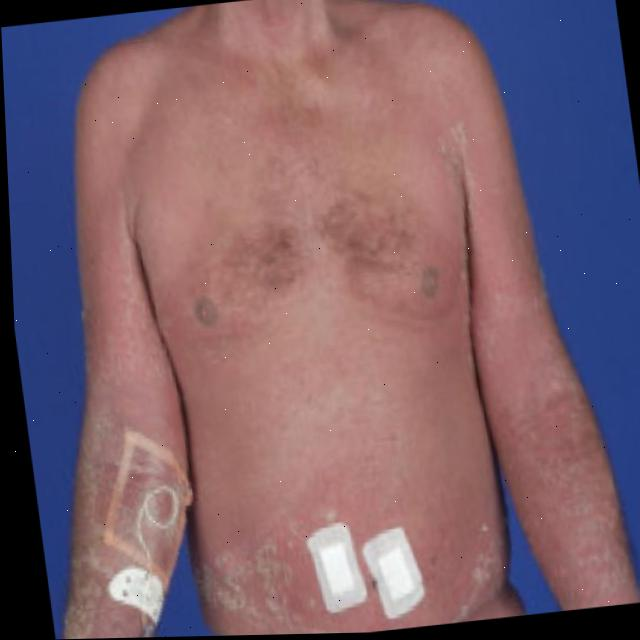Eczema: (191, 149, 436, 317), (31, 398, 201, 640), (206, 516, 505, 636), (499, 378, 640, 571)
